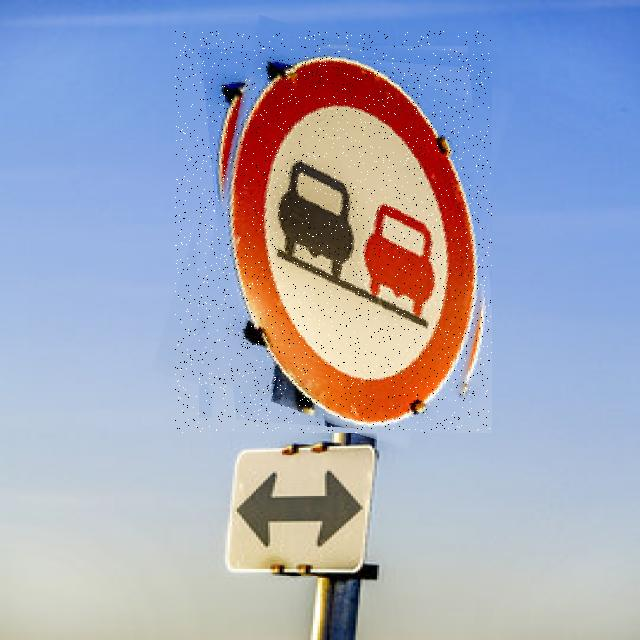no overtaking: (175, 31, 492, 433)
